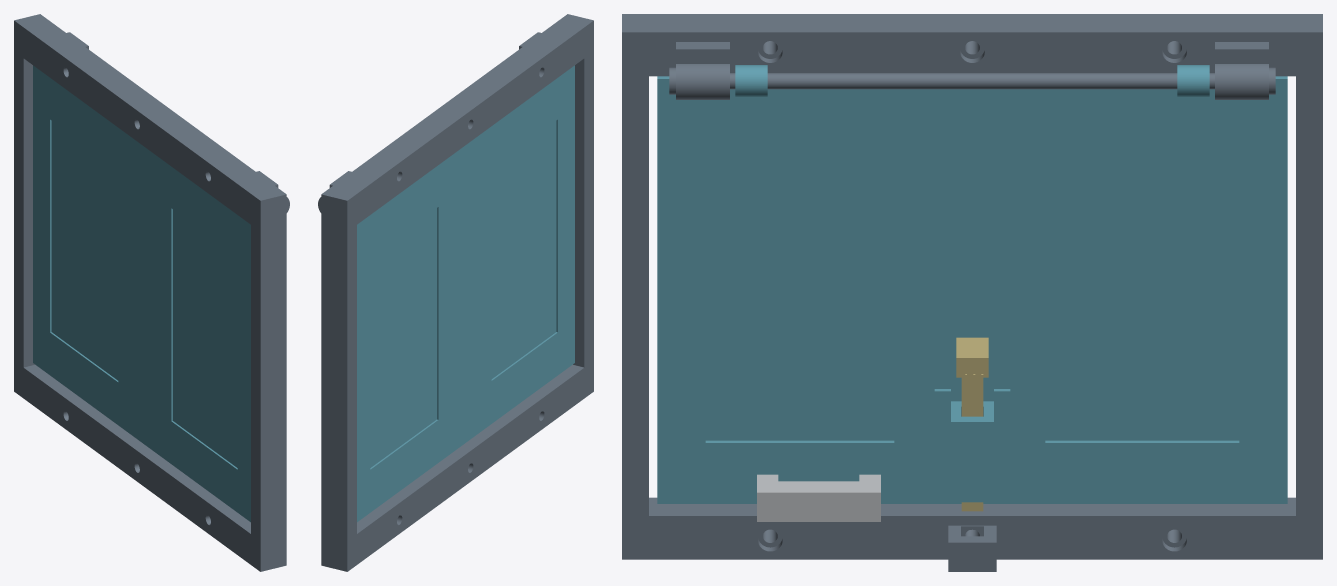
The model's file is original-body-local.glb.
The picture shows the model from 3 angles, left to right: view 1: azimuth 30°, elevation 25°; view 2: azimuth 150°, elevation 25°; view 3: azimuth 270°, elevation 25°; orthographic projection. The views are drawn at different scales.
Visible parts, largest first — view 1: door, frame; view 2: door, frame; view 3: door, frame, handle, bolt.
Part boxes in pixels (x1,y1,x2,y2): door: (33, 65, 250, 522); frame: (14, 14, 289, 571); door: (357, 65, 574, 522); frame: (318, 14, 593, 571); door: (657, 65, 1287, 503); frame: (622, 14, 1322, 571); handle: (757, 474, 880, 521); bolt: (956, 337, 988, 511).
Bounding box in the file's own units: 0.034 × 0.216 × 0.26.
